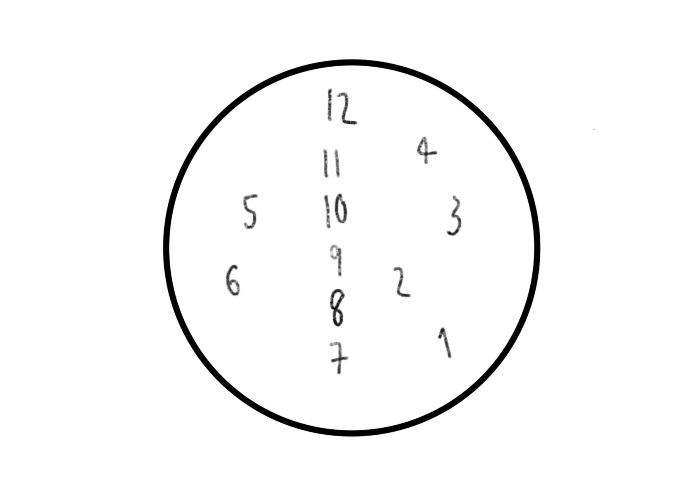eight: (323, 285, 348, 329)
eleven: (315, 144, 345, 177)
five: (239, 192, 260, 231)
four: (415, 133, 440, 170)
nine: (327, 241, 350, 278)
one: (437, 322, 457, 364)
seven: (324, 338, 352, 375)
six: (222, 262, 245, 297)
ten: (322, 191, 349, 231)
three: (438, 189, 465, 240)
twelve: (322, 84, 358, 128)
two: (390, 259, 412, 301)
